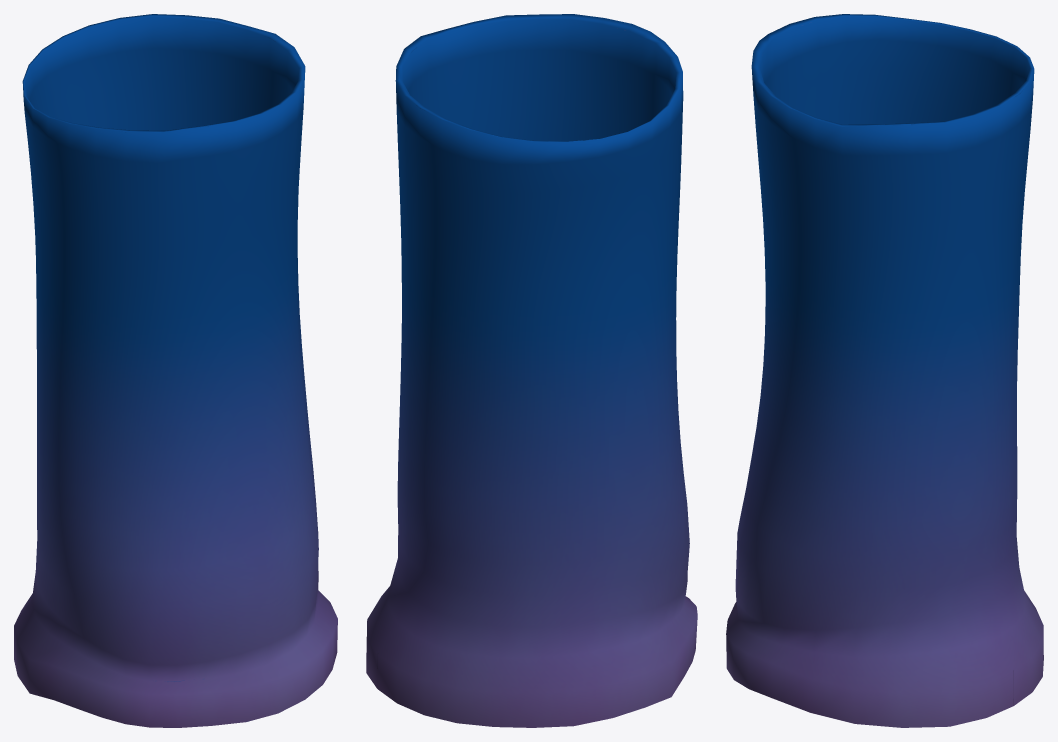
The model's file is right_atrium_blood1.glb.
The picture shows the model from 3 angles, left to right: view 1: azimuth 30°, elevation 25°; view 2: azimuth 150°, elevation 25°; view 3: azimuth 270°, elevation 25°; orthographic projection.
Visible parts, largest first — view 1: Rightatrium.006; view 2: Rightatrium.006; view 3: Rightatrium.006.
Boxes of the visible parts, <box> form: Rightatrium.006: <box>14,14,337,727</box>; Rightatrium.006: <box>366,14,697,727</box>; Rightatrium.006: <box>726,14,1043,727</box>.
Size of the model in its own units: 0.751 by 1.5 by 0.7265.
Materials: 1 (1 with a texture image).
